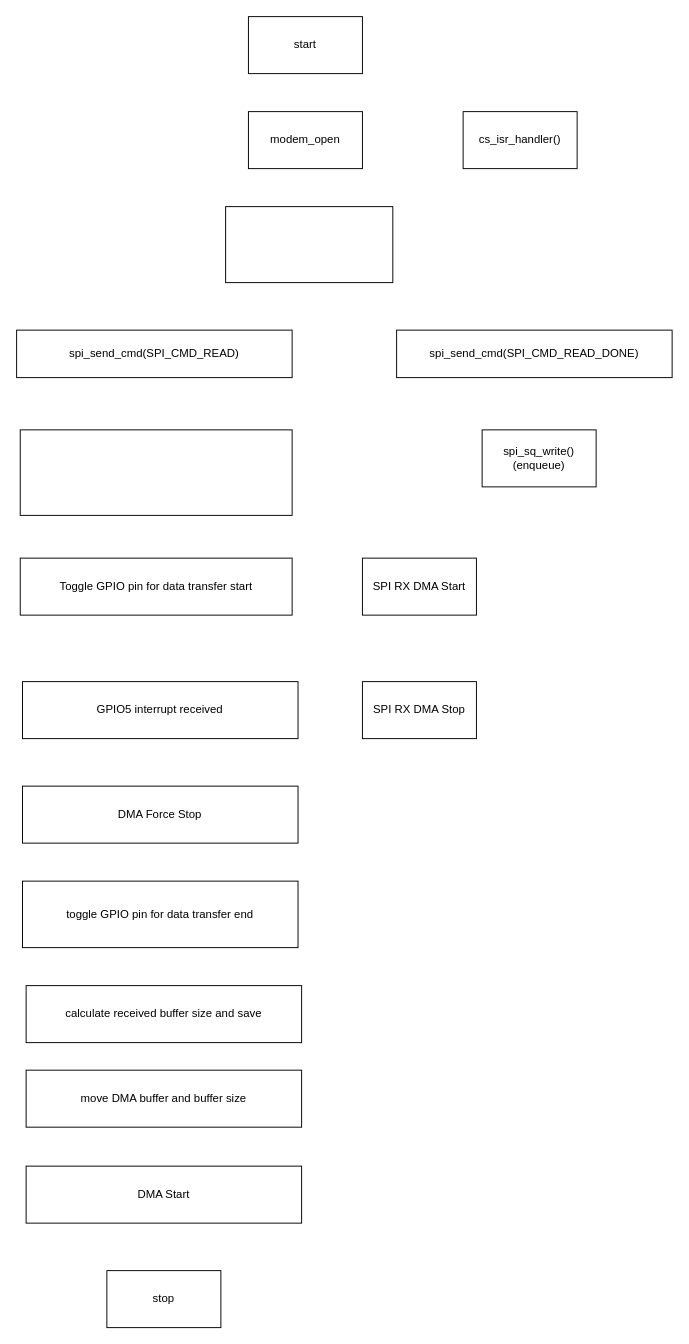
The diagram is 689 pixels wide and 1344 high, and some of its shapes have lost their labels. Here are the shapes that lost their labels. From the top down, the centre of each, then its label:
pixel 309 244: config PA6/GPIO5 and enable interrupt for this GPIO
pixel 155 472: set DMA transfer size to maximum i.e 4095
